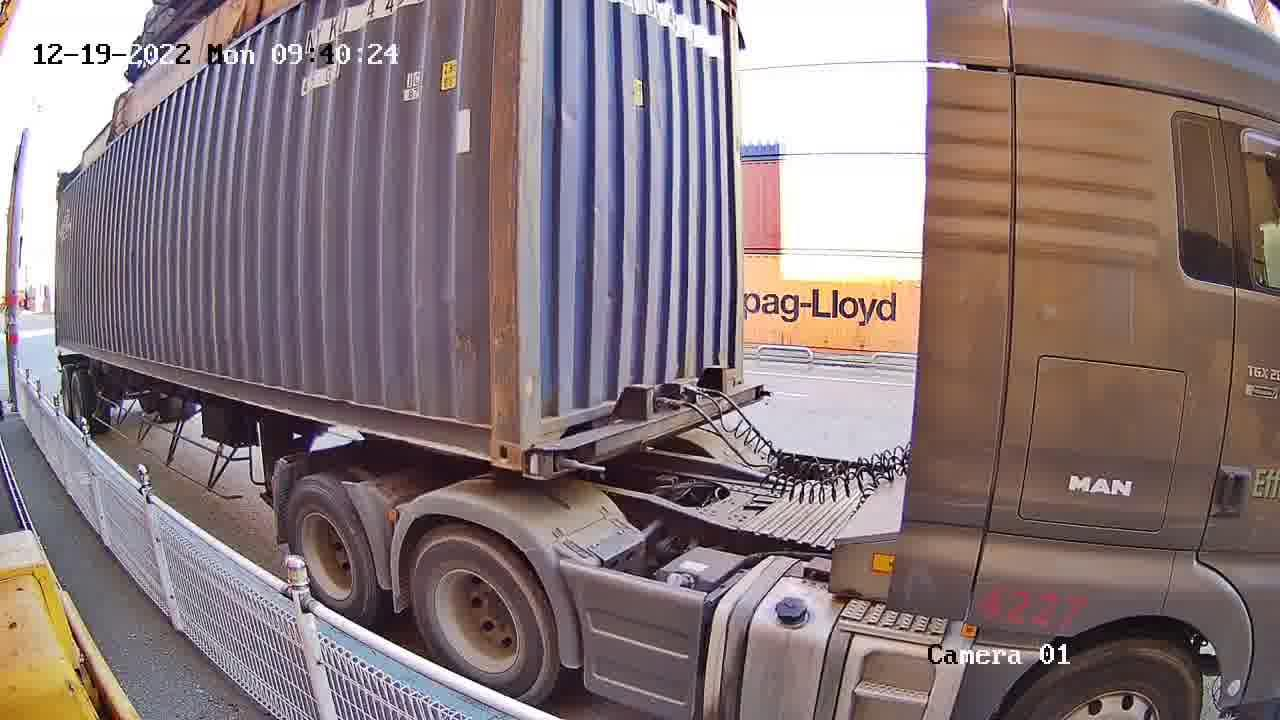Chassis: (527, 382, 767, 477)
Cone: (523, 448, 569, 476)
Hole_R: (464, 403, 521, 470)
Tire: (409, 534, 555, 703), (288, 477, 376, 622)
